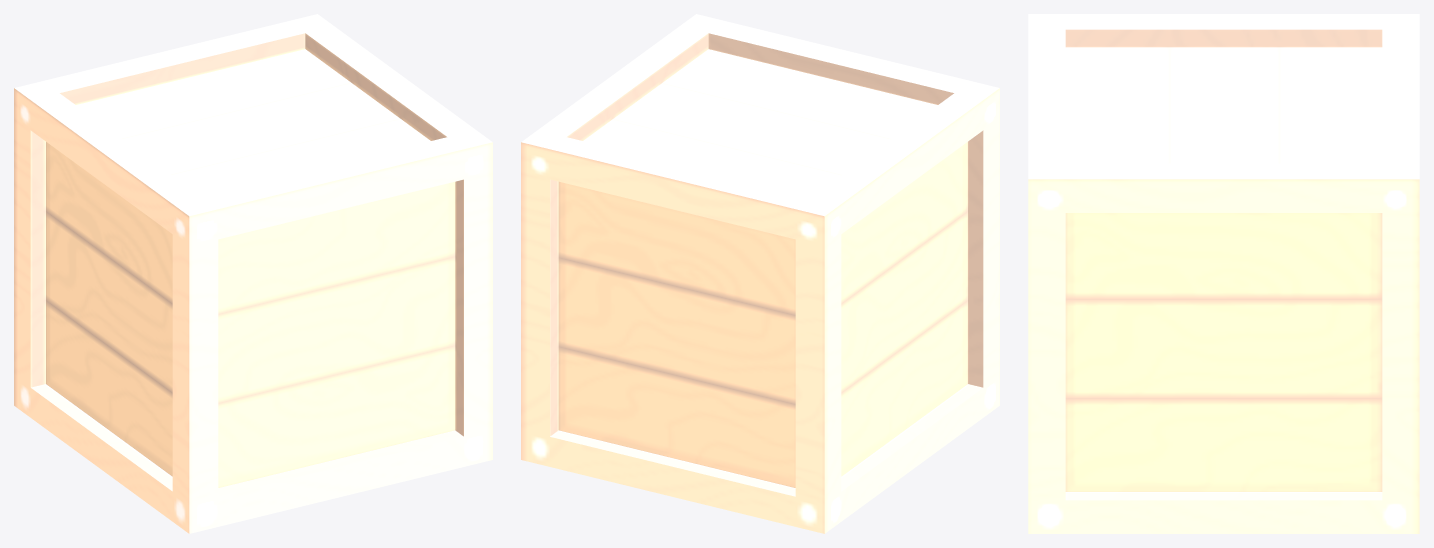
The picture shows the model from 3 angles, left to right: view 1: azimuth 30°, elevation 25°; view 2: azimuth 150°, elevation 25°; view 3: azimuth 270°, elevation 25°; orthographic projection. The views are drawn at different scales.
Parts seen in each view (by area): view 1: WoodenBox; view 2: WoodenBox; view 3: WoodenBox.
Part boxes in pixels (left/top/right/bottom): WoodenBox: left=14, top=14, right=492, bottom=533; WoodenBox: left=521, top=14, right=999, bottom=533; WoodenBox: left=1028, top=14, right=1419, bottom=533.
Size of the model in its own units: 2 by 2 by 2.
